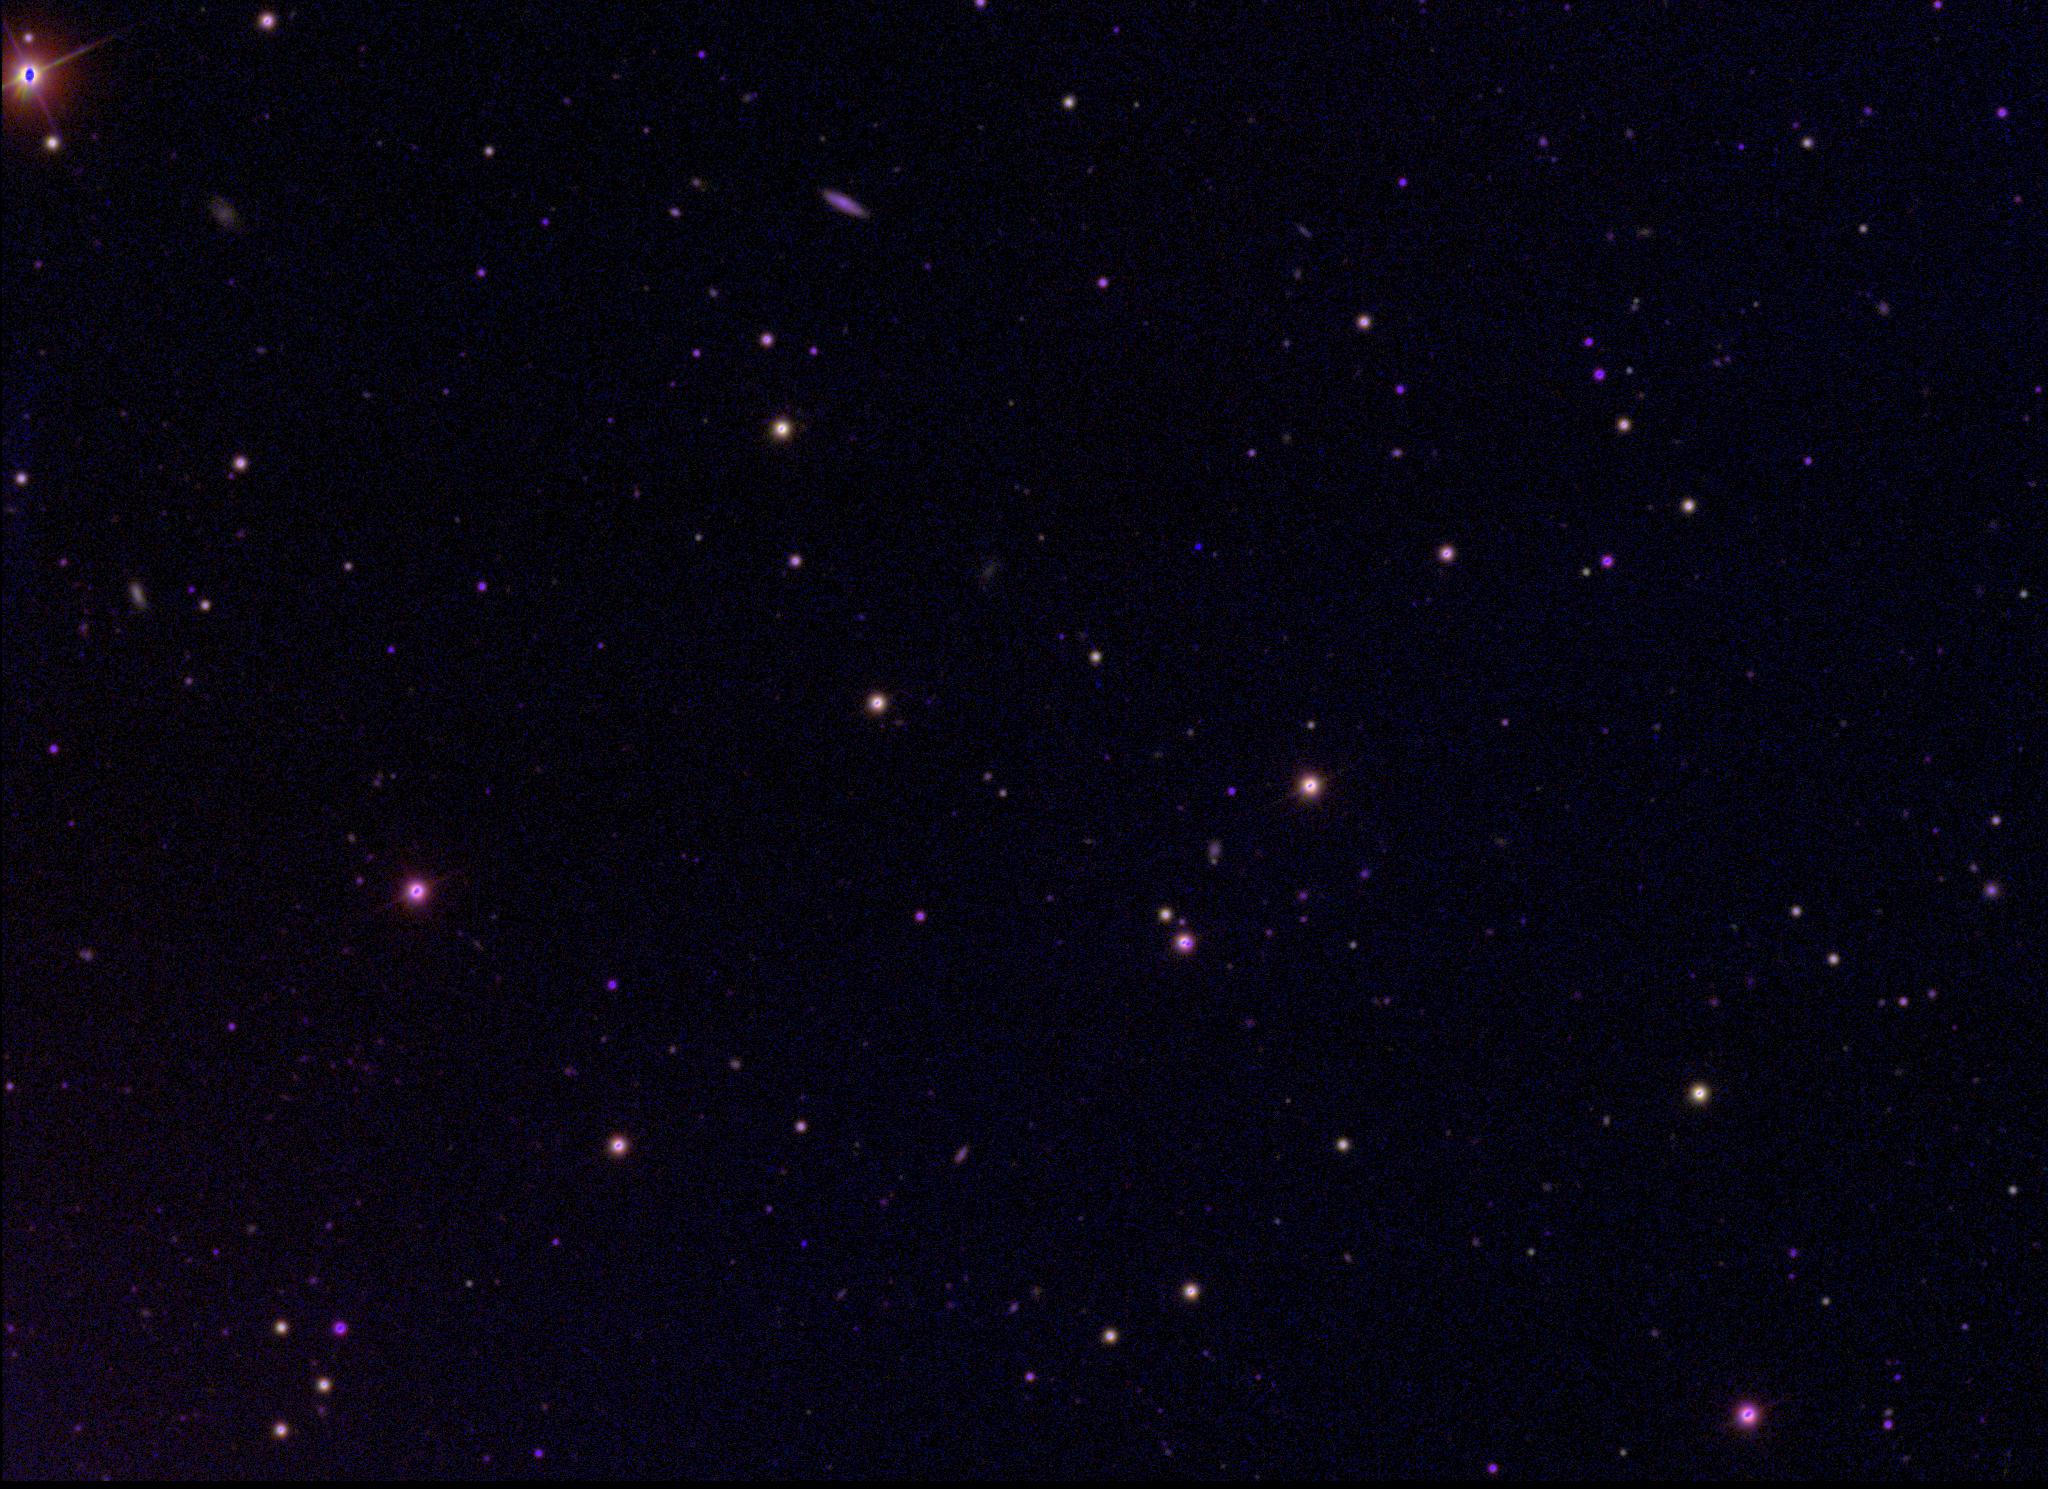L: (1189, 538, 1204, 552)
